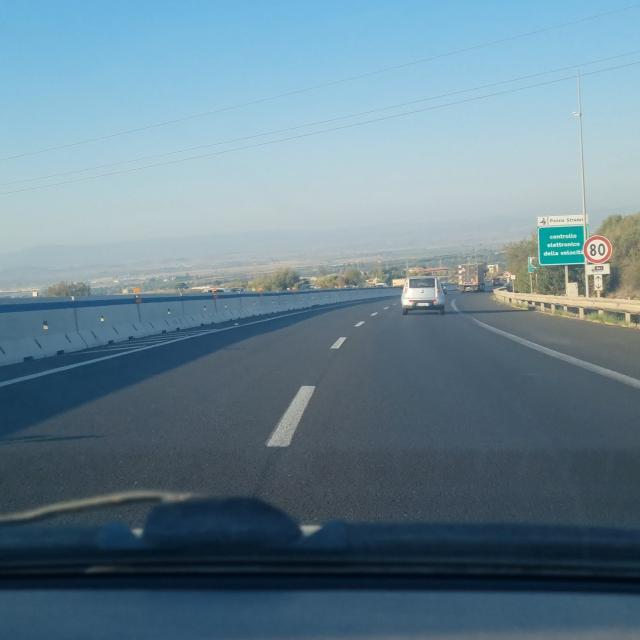forb_speed_over_80: (584, 234, 614, 264)
